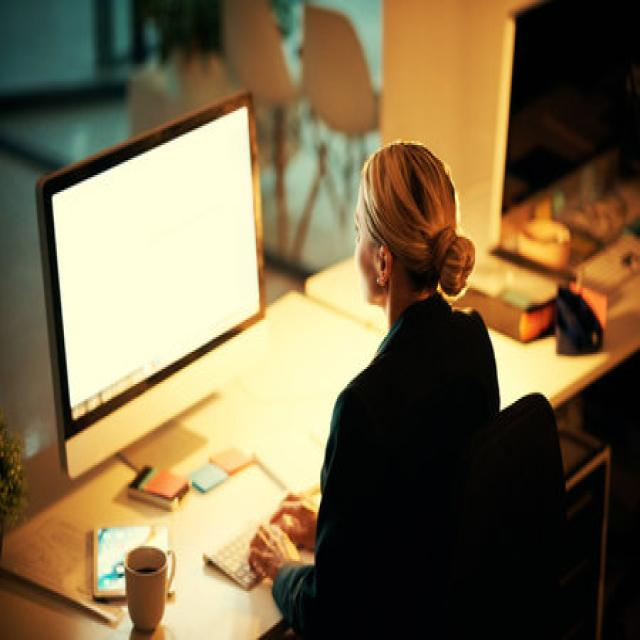desktop-person: (27, 64, 509, 640)
